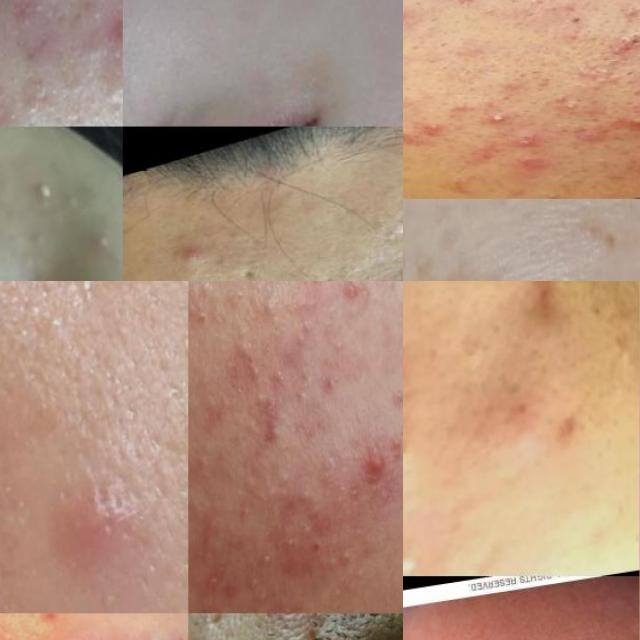acne_scars: (215, 244, 273, 281), (376, 207, 403, 250)
comedone: (9, 65, 62, 126), (188, 281, 241, 332), (454, 308, 486, 379), (74, 20, 116, 74), (81, 216, 123, 263), (254, 286, 290, 333), (596, 30, 640, 59), (238, 352, 267, 389), (564, 68, 622, 86), (403, 419, 422, 472), (294, 369, 316, 410), (615, 339, 640, 375), (252, 542, 280, 572), (508, 130, 545, 152), (260, 482, 296, 503), (403, 539, 423, 576), (252, 582, 278, 610), (192, 455, 216, 485), (243, 562, 262, 599), (336, 281, 367, 303), (290, 318, 312, 348), (294, 484, 321, 508), (589, 155, 624, 173), (268, 365, 288, 392), (325, 579, 349, 601), (202, 571, 223, 595), (236, 500, 256, 523), (415, 121, 446, 135), (519, 0, 553, 12), (471, 2, 499, 16), (332, 332, 348, 356), (298, 515, 314, 537), (353, 561, 366, 586), (340, 546, 354, 566), (190, 396, 200, 423), (374, 281, 399, 290), (521, 0, 551, 6), (403, 5, 412, 23)
papule: (46, 441, 154, 613), (349, 441, 400, 492), (161, 231, 212, 274), (256, 418, 301, 452)
pustule: (17, 162, 68, 222), (613, 110, 640, 139), (480, 107, 513, 126), (550, 98, 580, 117), (269, 613, 303, 625), (437, 0, 482, 8)
